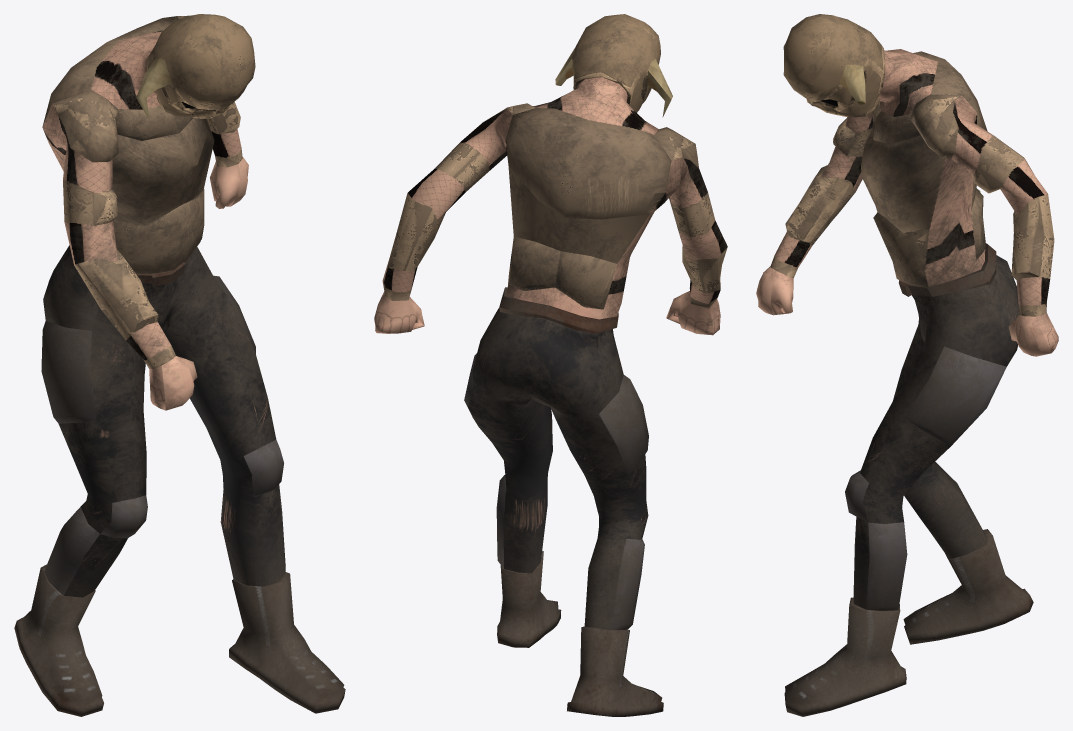
Rendered from Anim_cogerobjeto_npc1.0033.obj.
3 renders of one model, left to right at view 1: azimuth 30°, elevation 25°; view 2: azimuth 150°, elevation 25°; view 3: azimuth 270°, elevation 25°, orthographic. The views are drawn at different scales.
Visible parts, largest first — view 1: NPC2; view 2: NPC2; view 3: NPC2.
Part boxes in pixels (<box>): NPC2: <box>14,14,345,716</box>; NPC2: <box>374,14,727,716</box>; NPC2: <box>756,14,1058,716</box>.
Bounding box in the file's own units: 3.58 × 8.75 × 3.66.
